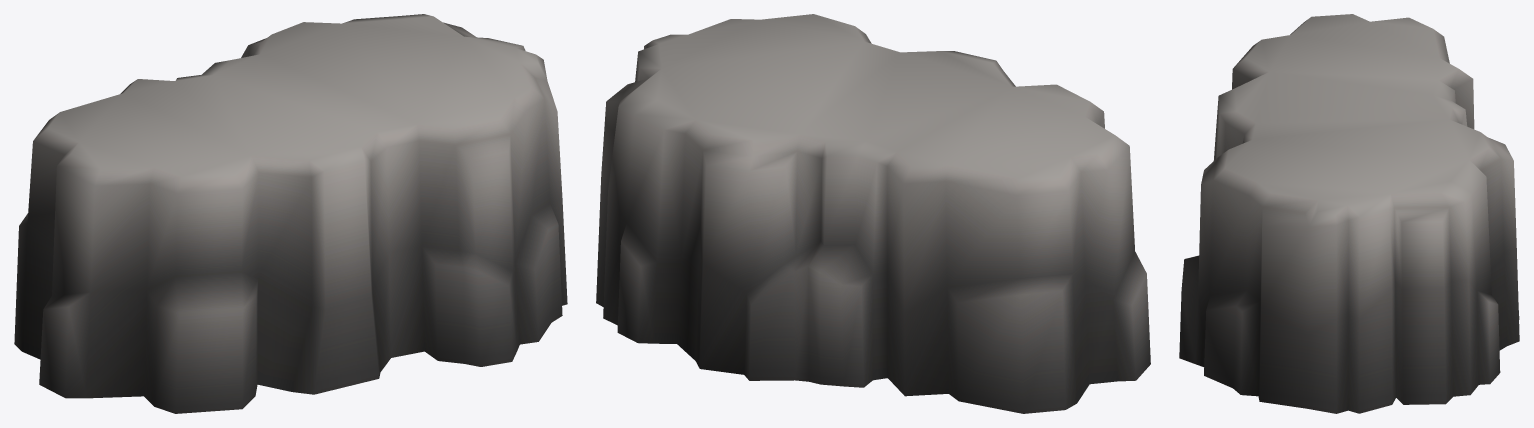
Rendered from m_Cliff03_A.fbx.
3 renders of one model, left to right at view 1: azimuth 30°, elevation 25°; view 2: azimuth 150°, elevation 25°; view 3: azimuth 270°, elevation 25°, orthographic. The views are drawn at different scales.
Parts seen in each view (by area): view 1: m_Cliff03_A; view 2: m_Cliff03_A; view 3: m_Cliff03_A.
Part boxes in pixels (x1,y1,x2,y2): m_Cliff03_A: [14, 14, 567, 413]; m_Cliff03_A: [596, 14, 1150, 413]; m_Cliff03_A: [1179, 14, 1519, 413].
Size of the model in its own units: 2406 by 1000 by 1577.
